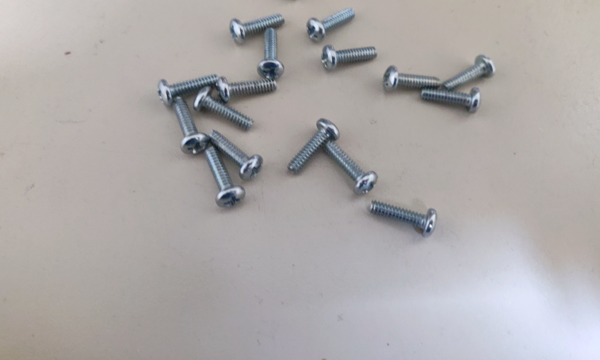shortscrew: (288, 118, 342, 176), (326, 141, 378, 195), (209, 130, 264, 181), (194, 87, 254, 132), (203, 147, 246, 208), (370, 200, 438, 238), (174, 96, 209, 155), (443, 54, 497, 91), (157, 74, 217, 107), (230, 13, 286, 45), (307, 8, 356, 43), (383, 65, 442, 93), (421, 87, 482, 114), (217, 77, 278, 103), (257, 28, 284, 80), (322, 45, 377, 70)
